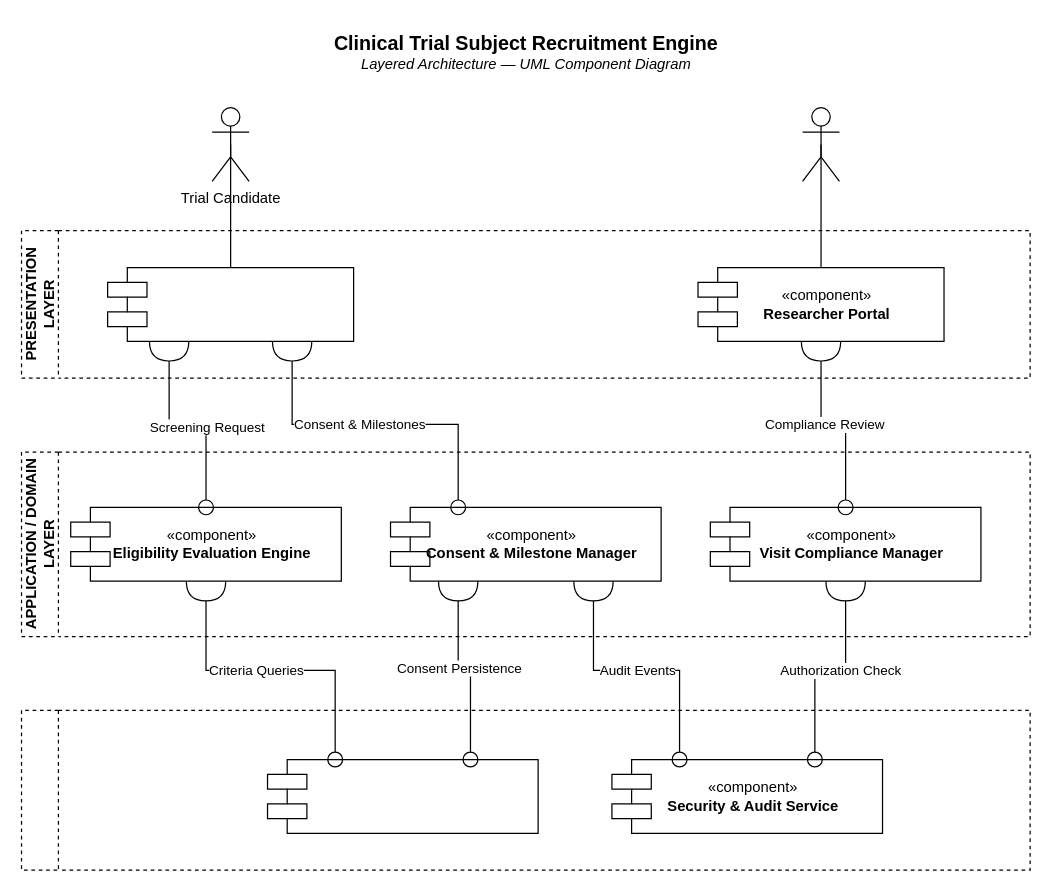
Image size: 1052x892. Some labels were removed from this diagram. Here are the shapes that lost their labels. From the top down, the box of each, then its label:
(801, 106, 839, 181): Clinical Researcher
(106, 266, 354, 341): «component» Candidate Portal
(266, 758, 538, 833): «component» Trial Data Repository
(20, 709, 1030, 870): DATA / SECURITY LAYER
